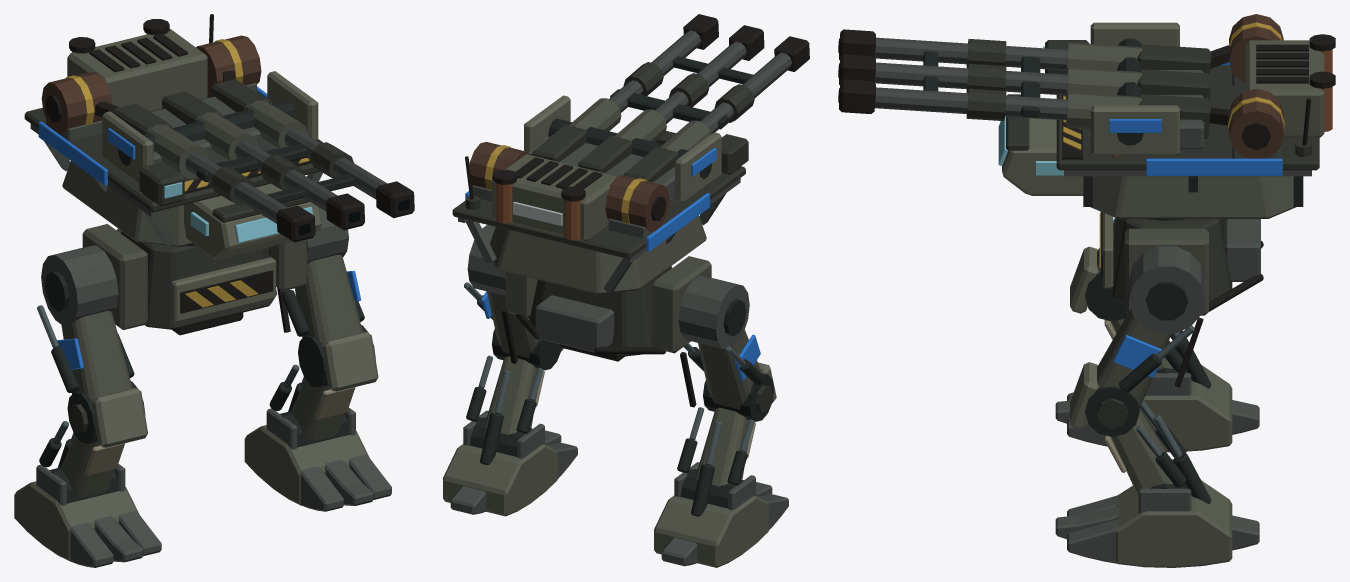
File: h_juggernaut.glb
3 views of the same model, side by side, from view 1: azimuth 30°, elevation 25°; view 2: azimuth 150°, elevation 25°; view 3: azimuth 270°, elevation 25° (orthographic). The views are drawn at different scales.
Parts seen in each view (by area): view 1: Gun deck, Leg armor, Leg armor.001, Triple battery, Pelvis; view 2: Gun deck, Leg armor, Leg armor.001, Triple battery, Pelvis; view 3: Gun deck, Leg armor.001, Triple battery, Leg armor, Pelvis.
Boxes of the visible parts, x1=… form: Gun deck: x1=24, y1=14, x2=323, y2=259; Leg armor: x1=14, y1=245, x2=161, y2=567; Leg armor.001: x1=244, y1=208, x2=391, y2=511; Triple battery: x1=112, y1=79, x2=414, y2=242; Pelvis: x1=82, y1=224, x2=307, y2=335; Gun deck: x1=452, y1=95, x2=748, y2=294; Leg armor: x1=654, y1=275, x2=788, y2=567; Leg armor.001: x1=443, y1=225, x2=577, y2=516; Triple battery: x1=533, y1=14, x2=809, y2=182; Pelvis: x1=505, y1=256, x2=711, y2=361; Gun deck: x1=998, y1=14, x2=1335, y2=218; Leg armor.001: x1=1055, y1=246, x2=1259, y2=567; Triple battery: x1=838, y1=29, x2=1210, y2=139; Leg armor: x1=1055, y1=218, x2=1259, y2=452; Pelvis: x1=1099, y1=212, x2=1263, y2=315.
Size of the model in its own units: 3.4 by 4.6 by 4.73.
